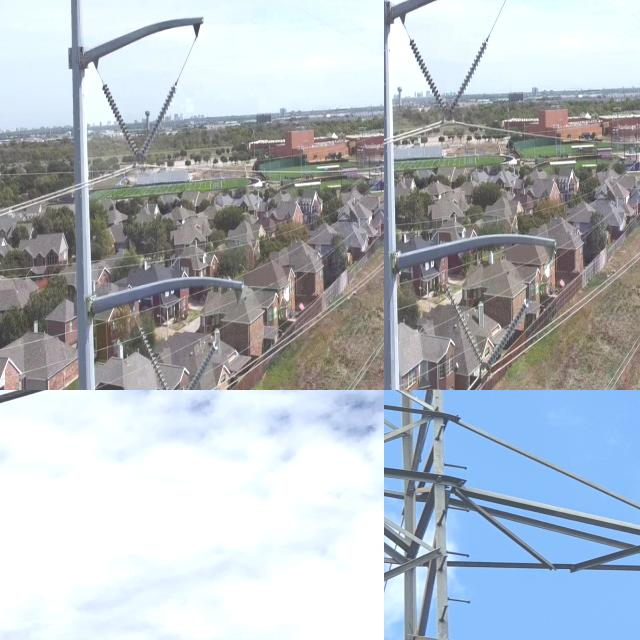杆塔: (384, 390, 640, 640)
正常绝缘子: (435, 267, 492, 382), (476, 285, 541, 385), (439, 23, 496, 132), (403, 29, 453, 126), (133, 78, 179, 164), (100, 79, 143, 165), (137, 323, 173, 390), (182, 336, 221, 390)
